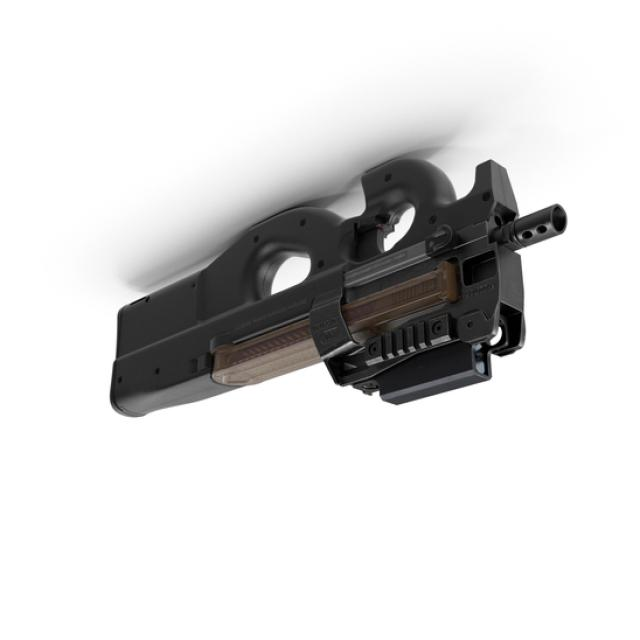Gun: (91, 120, 566, 440)
